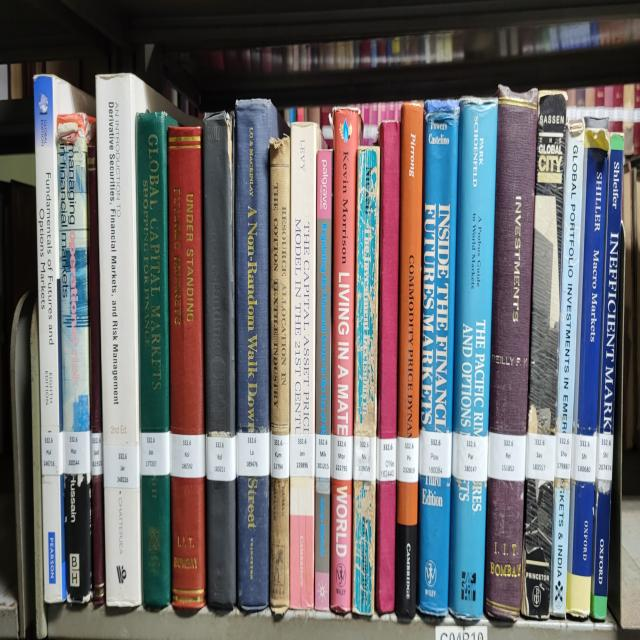Book: (96, 73, 188, 609), (34, 76, 95, 603), (484, 87, 538, 622), (449, 97, 498, 622), (521, 92, 565, 617), (418, 100, 459, 617), (566, 127, 609, 617), (56, 114, 95, 603), (235, 100, 272, 611), (168, 127, 206, 609), (136, 111, 172, 606), (550, 122, 585, 617), (202, 111, 236, 609), (590, 133, 624, 620), (330, 108, 360, 614), (395, 103, 424, 620), (290, 122, 320, 609), (352, 146, 380, 617), (375, 122, 400, 614), (270, 138, 290, 614), (88, 138, 105, 606), (315, 149, 332, 611)
Label: (488, 430, 526, 482), (451, 433, 488, 482), (104, 444, 140, 490), (419, 430, 452, 479), (170, 433, 205, 479), (236, 430, 270, 476), (525, 433, 556, 482), (206, 436, 236, 482), (141, 430, 170, 476), (62, 430, 91, 473), (571, 433, 596, 482), (352, 436, 376, 482), (290, 433, 315, 476), (41, 430, 64, 476), (396, 436, 419, 482), (331, 436, 352, 482), (270, 433, 290, 479), (596, 433, 614, 482), (376, 438, 396, 482), (555, 430, 572, 479), (315, 433, 331, 479), (91, 433, 102, 476)
